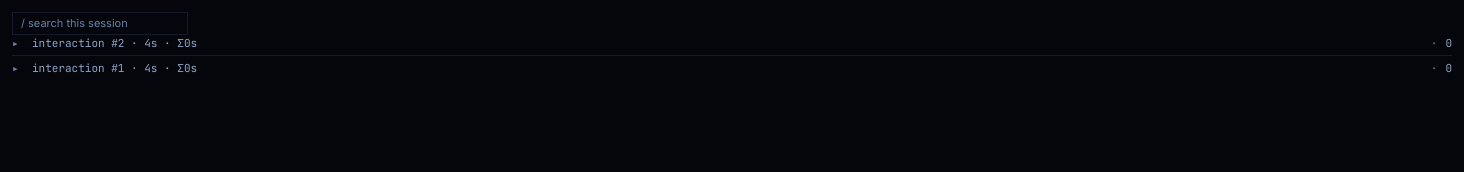
Test case: the trace declares what it hid › matches a span buried under a root, not only the root itself
Type "WriteTheOther" into the search field with test id "session-search-test" at (100, 23), box [12, 12, 188, 34]
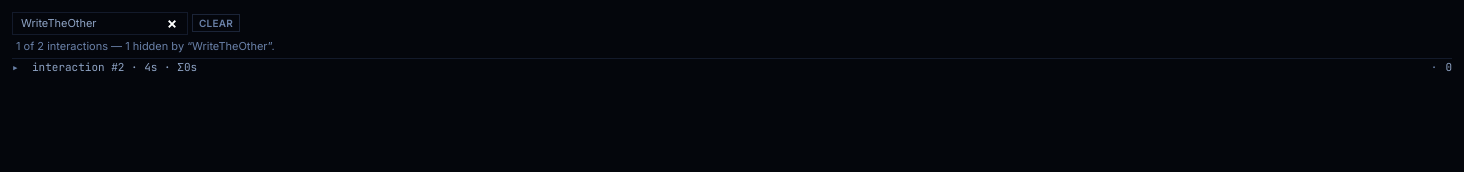
Expected: the list item with test id "trace-interaction" shows "interaction #2", [12, 59, 1452, 75]
Now the number of list items with test id "trace-interaction" is 1, box [12, 59, 1452, 75]
